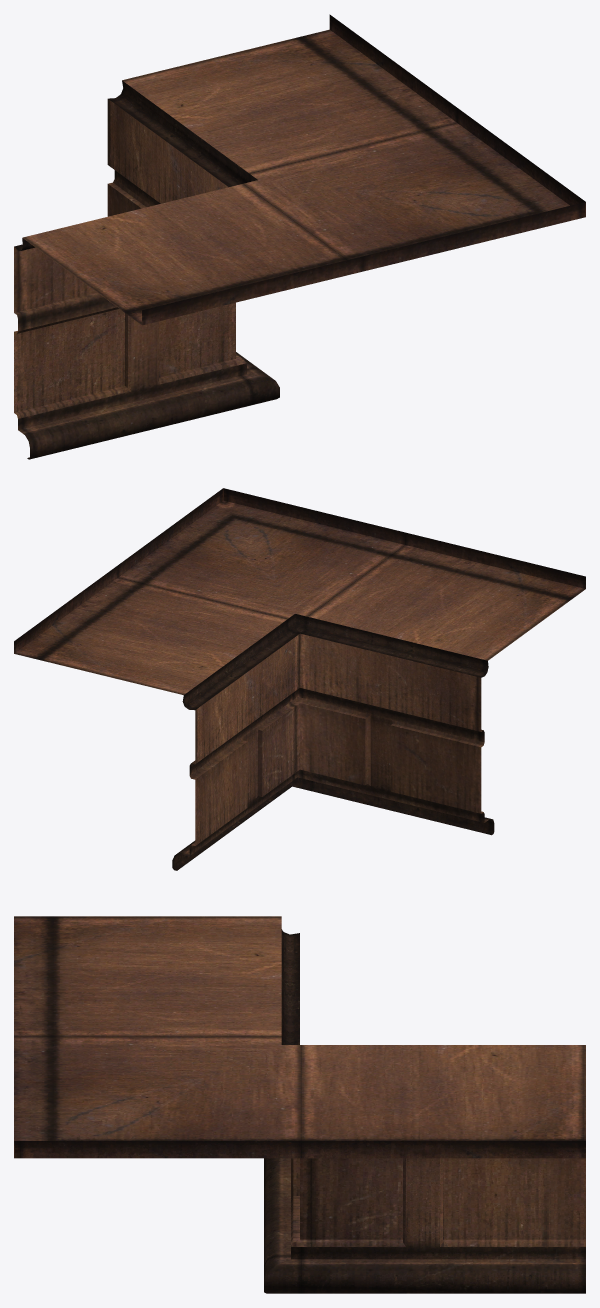
File: corner_convex03_short.dae
3 renders of one model, top to bottom at view 1: azimuth 30°, elevation 25°; view 2: azimuth 150°, elevation 25°; view 3: azimuth 270°, elevation 25°, orthographic. The views are drawn at different scales.
Visible parts, largest first — view 1: corner_convex_short; view 2: corner_convex_short; view 3: corner_convex_short.
Boxes of the visible parts, x1,y1,x2,y2 form: corner_convex_short: (14,14,585,459); corner_convex_short: (14,488,585,870); corner_convex_short: (14,916,585,1293).
Bounding box in the file's own units: 4 × 2 × 4.
1 material, 1 textured.
